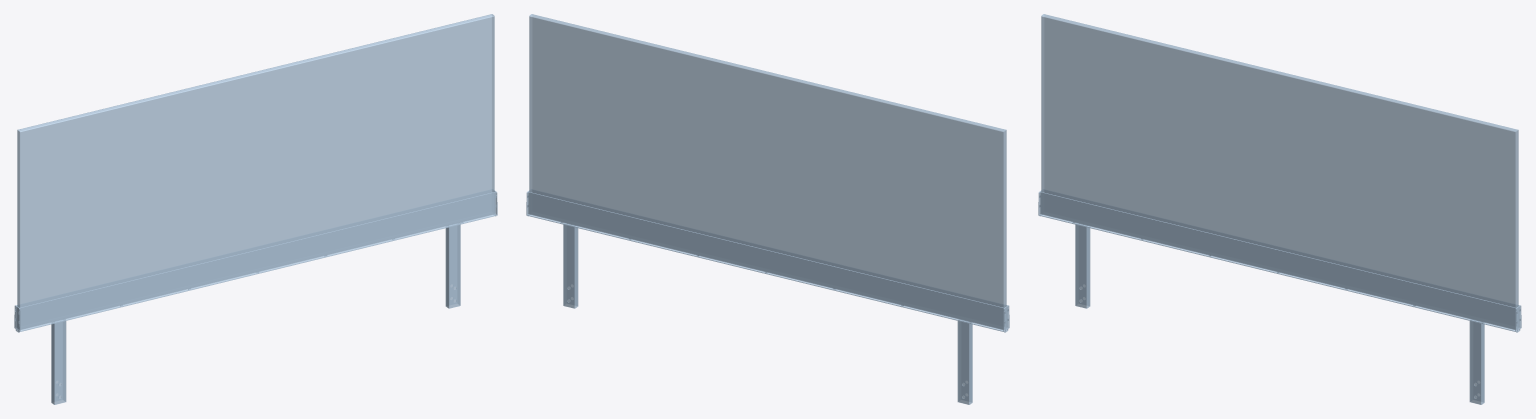
The model's file is KUAC690000_165.glb.
3 renders of one model, left to right at view 1: azimuth 30°, elevation 25°; view 2: azimuth 150°, elevation 25°; view 3: azimuth 330°, elevation 25°, orthographic.
Parts seen in each view (by area): view 1: 2 (×2), 7, 8, 5; view 2: 2 (×2), 7, 8, 5; view 3: 2 (×2), 7, 8, 5.
Part boxes in pixels (x1=…): 2 (×2): x1=17, y1=14, x2=494, y2=307; 7: x1=15, y1=190, x2=496, y2=329; 8: x1=51, y1=223, x2=460, y2=404; 5: x1=14, y1=214, x2=497, y2=331; 2 (×2): x1=529, y1=14, x2=1006, y2=328; 7: x1=527, y1=190, x2=1008, y2=329; 8: x1=563, y1=223, x2=972, y2=404; 5: x1=526, y1=214, x2=1009, y2=331; 2 (×2): x1=1041, y1=14, x2=1518, y2=328; 7: x1=1039, y1=190, x2=1520, y2=329; 8: x1=1075, y1=223, x2=1484, y2=404; 5: x1=1038, y1=214, x2=1521, y2=331.
Bounding box in the file's own units: 1.58 × 0.8886 × 0.032.
